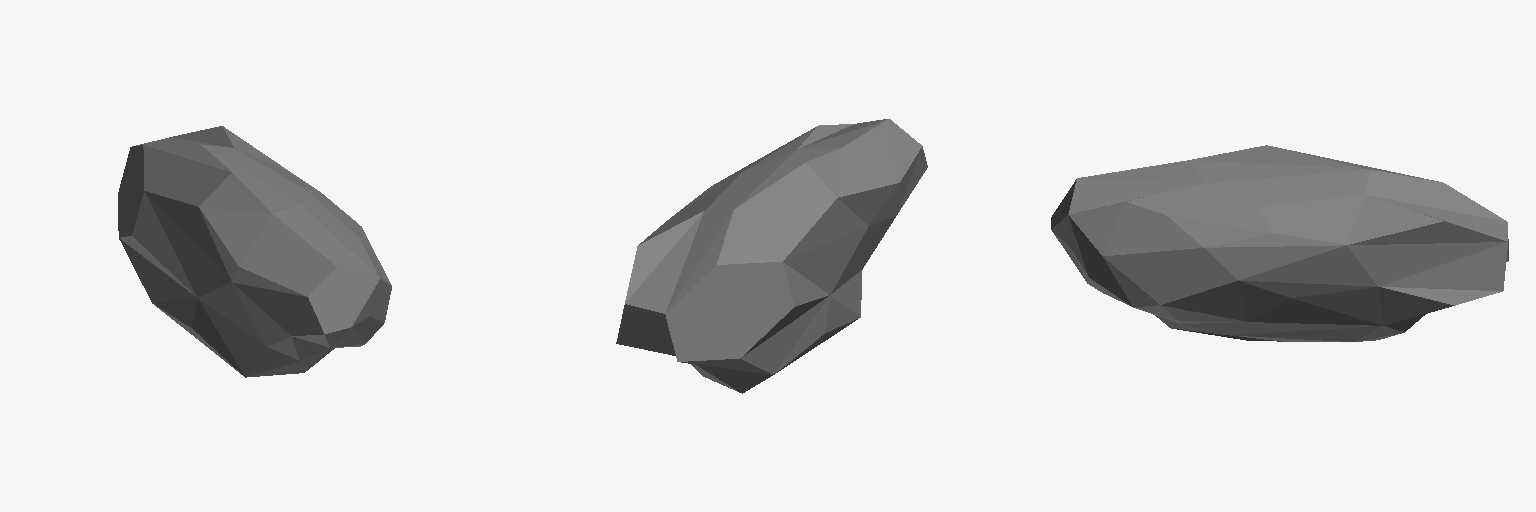
Rendered from pedra.obj.
3 renders of one model, left to right at view 1: azimuth 30°, elevation 25°; view 2: azimuth 150°, elevation 25°; view 3: azimuth 270°, elevation 25°, orthographic.
Visible parts, largest first — view 1: Platonic; view 2: Platonic; view 3: Platonic.
Part boxes in pixels (x1,y1,x2,y2): Platonic: (118,126,391,377); Platonic: (616,119,927,393); Platonic: (1051,145,1508,341).
Size of the model in its own units: 127 by 155 by 334.